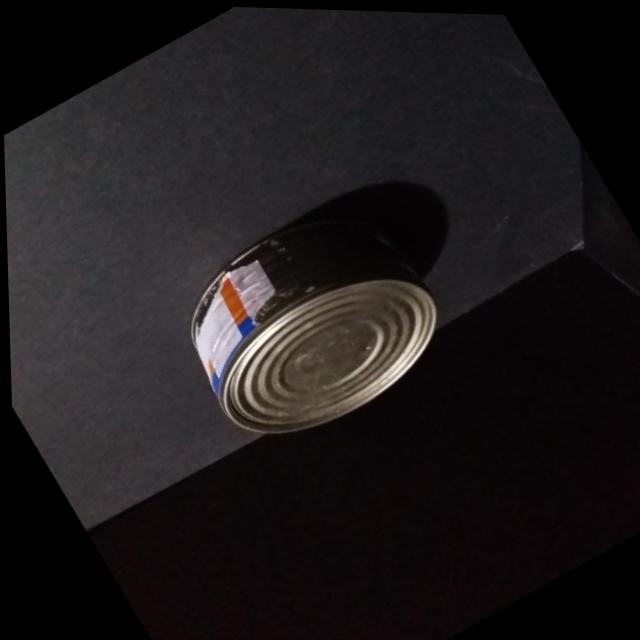metal: (149, 172, 473, 478)
